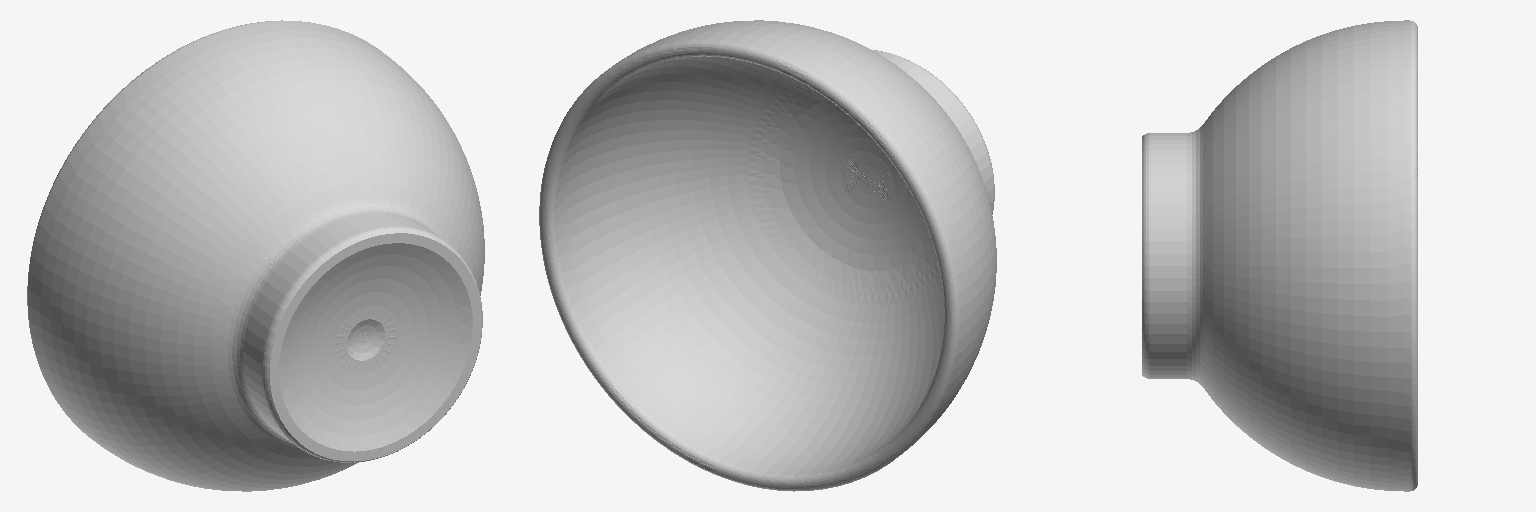
robot.urdf — cereal.urdf:
<?xml version="0.0" ?>
<robot name="cereal.urdf">
  <link name="baseLink">
    <contact>
      <lateral_friction value="1.0"/>
      <inertia_scaling value="3.0"/>
    </contact>
    <inertial>
      <origin rpy="0 0 0" xyz="0 0 0"/>
       <mass value=".2"/>
       <inertia ixx="0.1" ixy="0" ixz="0" iyy="0.1" iyz="0" izz="0.1"/>
    </inertial>
    <visual>
      <origin rpy="0 0 0" xyz="0 0 0"/>
      <geometry>
        <mesh filename="cereal.stl" scale="0.001 .001 .001"/>
      </geometry>
      <material name="white">
        <color rgba="0.85 0.85 0.85 1"/>
      </material>
    </visual>
    <collision>
      <origin rpy="0 0 0" xyz="0 0 0"/>
      <geometry>
    <box size="0.005 0.005 0.005"/>
      </geometry>
    </collision>
  </link>
</robot>

--- What the picture shows (computed from the rendered views, not written in the file) ---
The picture shows the robot from 3 angles, left to right: view 1: azimuth 30°, elevation 25°; view 2: azimuth 150°, elevation 25°; view 3: azimuth 270°, elevation 25°; orthographic projection.
Model cereal.urdf with 1 links and 0 joints (none), rooted at baseLink, posed all joints at 0.
Visible links, largest first — view 1: baseLink; view 2: baseLink; view 3: baseLink.
Boxes of the visible links, x1,y1,x2,y2 form: baseLink: (27,20,484,491); baseLink: (539,20,996,491); baseLink: (1142,20,1417,491).
Bounding box of the posed robot: 0.1451 × 0.085 × 0.1452 m (x, y, z).
Meshes: 1 distinct files referenced, 1 mesh visuals loaded (1 binary STL).